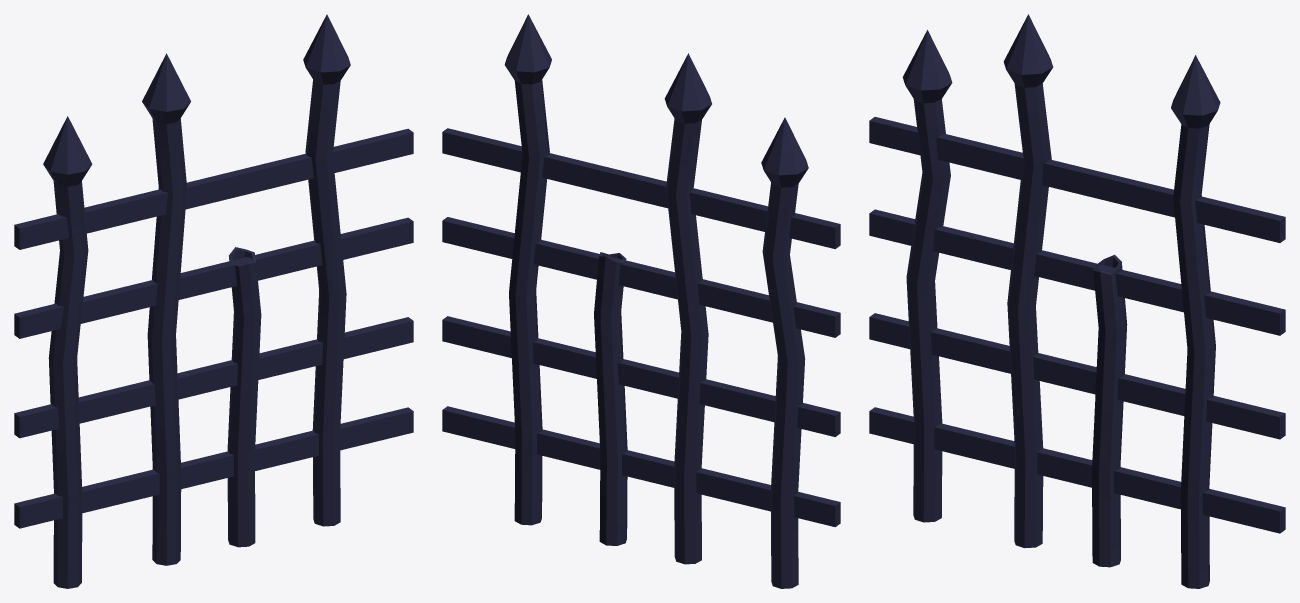
The model's file is barreaux_mauves.fbx.
3 renders of one model, left to right at view 1: azimuth 30°, elevation 25°; view 2: azimuth 150°, elevation 25°; view 3: azimuth 330°, elevation 25°, orthographic. The views are drawn at different scales.
Visible parts, largest first — view 1: set_04_barriere1; view 2: set_04_barriere1; view 3: set_04_barriere1.
Boxes of the visible parts, box(x1,y1,x2,y2) form: set_04_barriere1: box(14, 14, 413, 588); set_04_barriere1: box(442, 14, 840, 588); set_04_barriere1: box(869, 14, 1285, 588).
Bounding box in the file's own units: 3.55 × 4.37 × 0.3953.
Materials: 1 (1 with a texture image).
